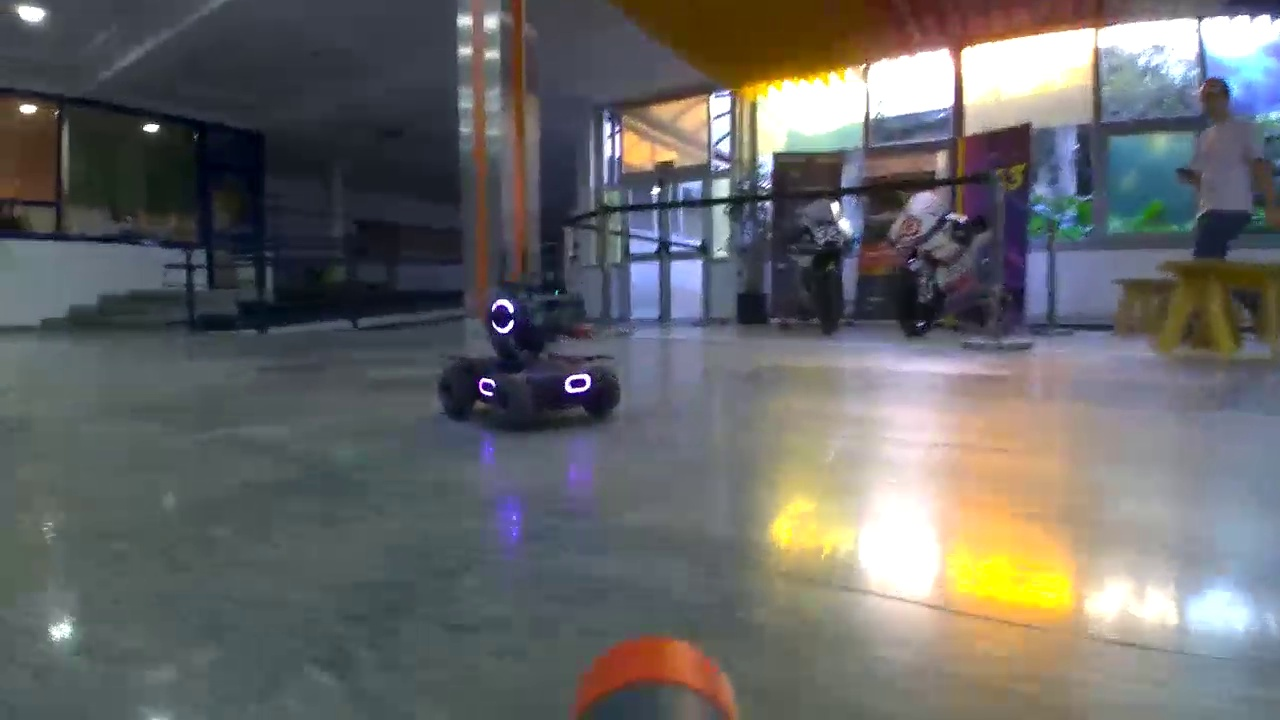robot: (437, 295, 620, 420)
